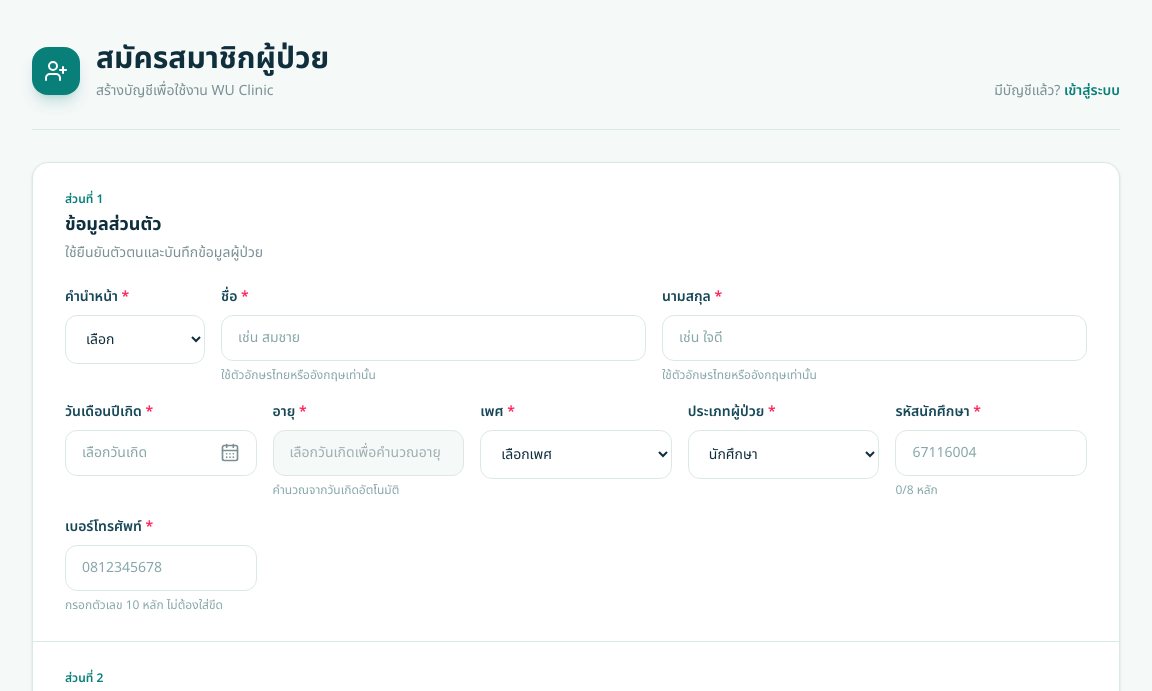
Test: registration validation › prevents numbers in patient and emergency contact names
This screenshot has width=1152, height=691.
Type "สมชาย123" into the field labelled "ชื่อ *" at (434, 338), box [221,315,646,361]
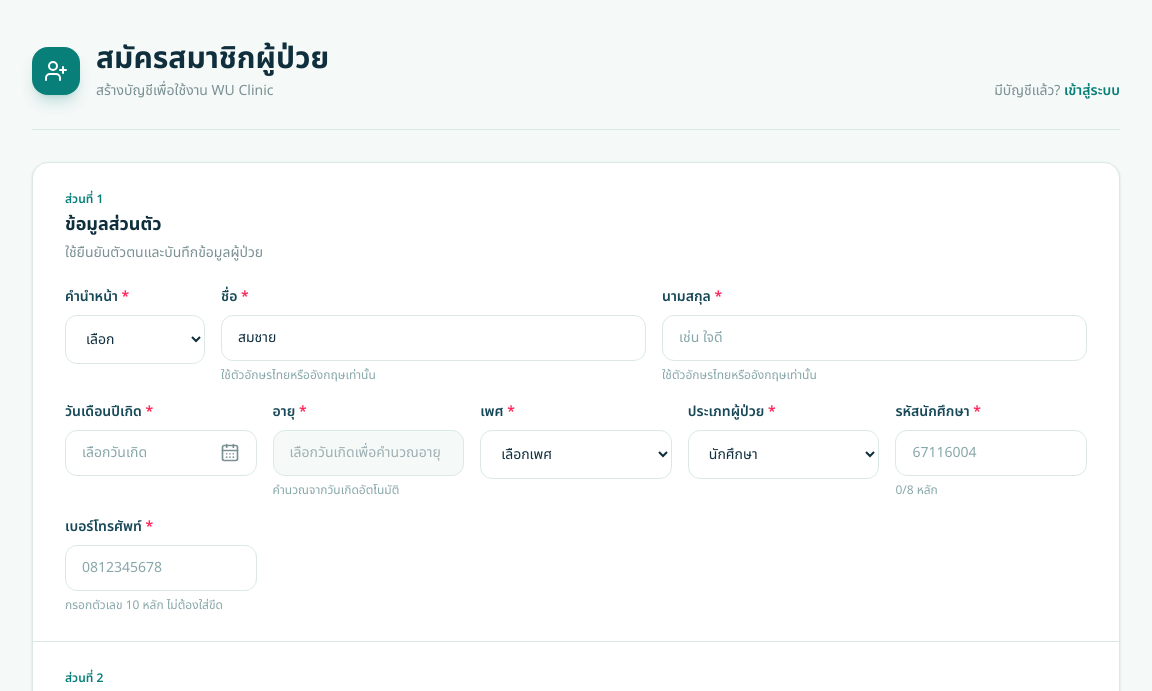
Type "ใจดี456" into the field labelled "นามสกุล *" at (874, 338), box [662,315,1087,361]
(page scrolled)
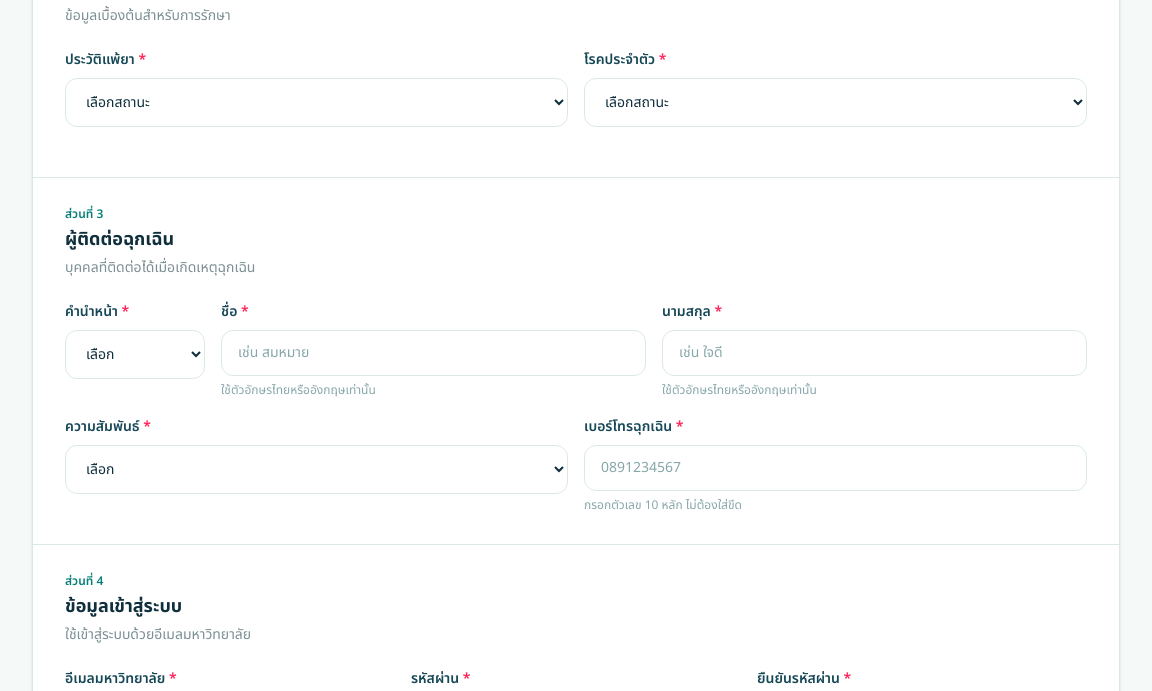
Type "สมหญิง789" into the field labelled "ชื่อ *" at (434, 353), box [221,330,646,376]
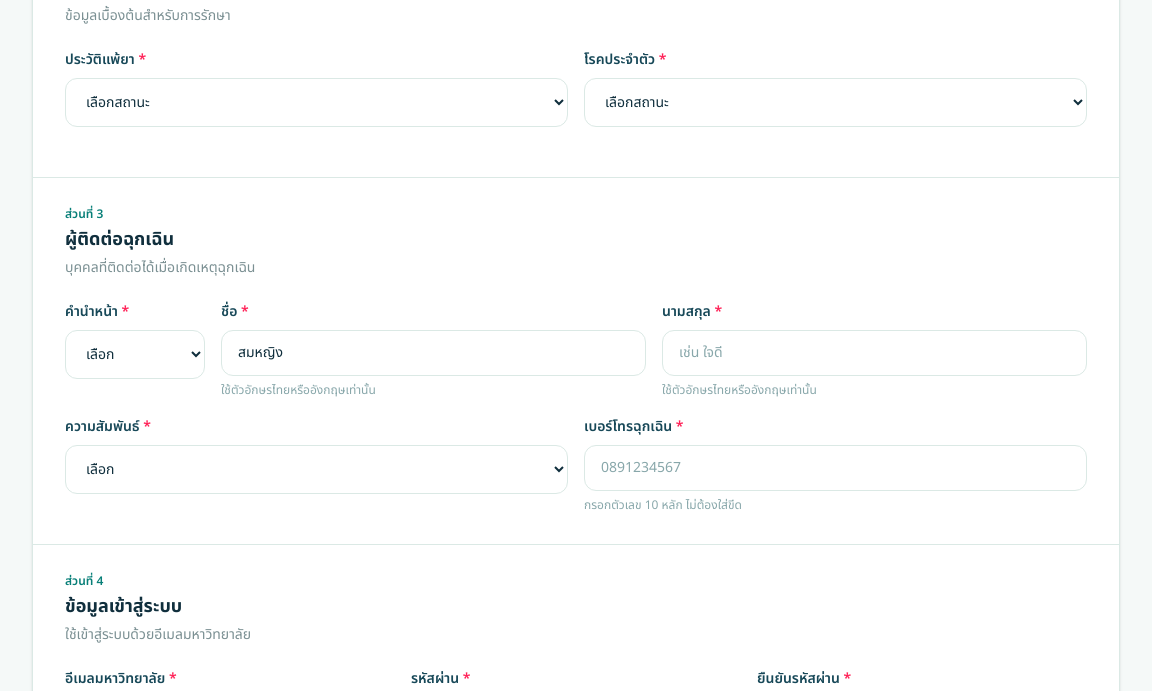
Type "สุขดี012" into the field labelled "นามสกุล *" at (874, 353), box [662,330,1087,376]
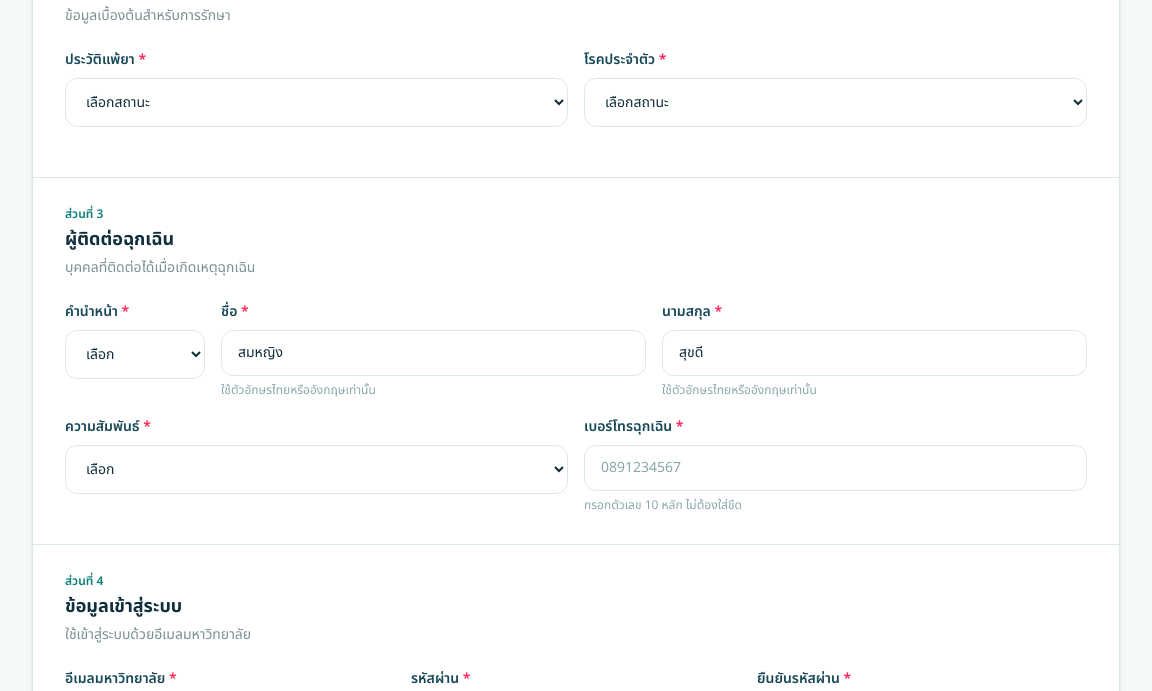
Check: the field labelled "ชื่อ *" holds "สมหญิง", box [221,330,646,376]
Check: the field labelled "นามสกุล *" holds "สุขดี", box [662,330,1087,376]
